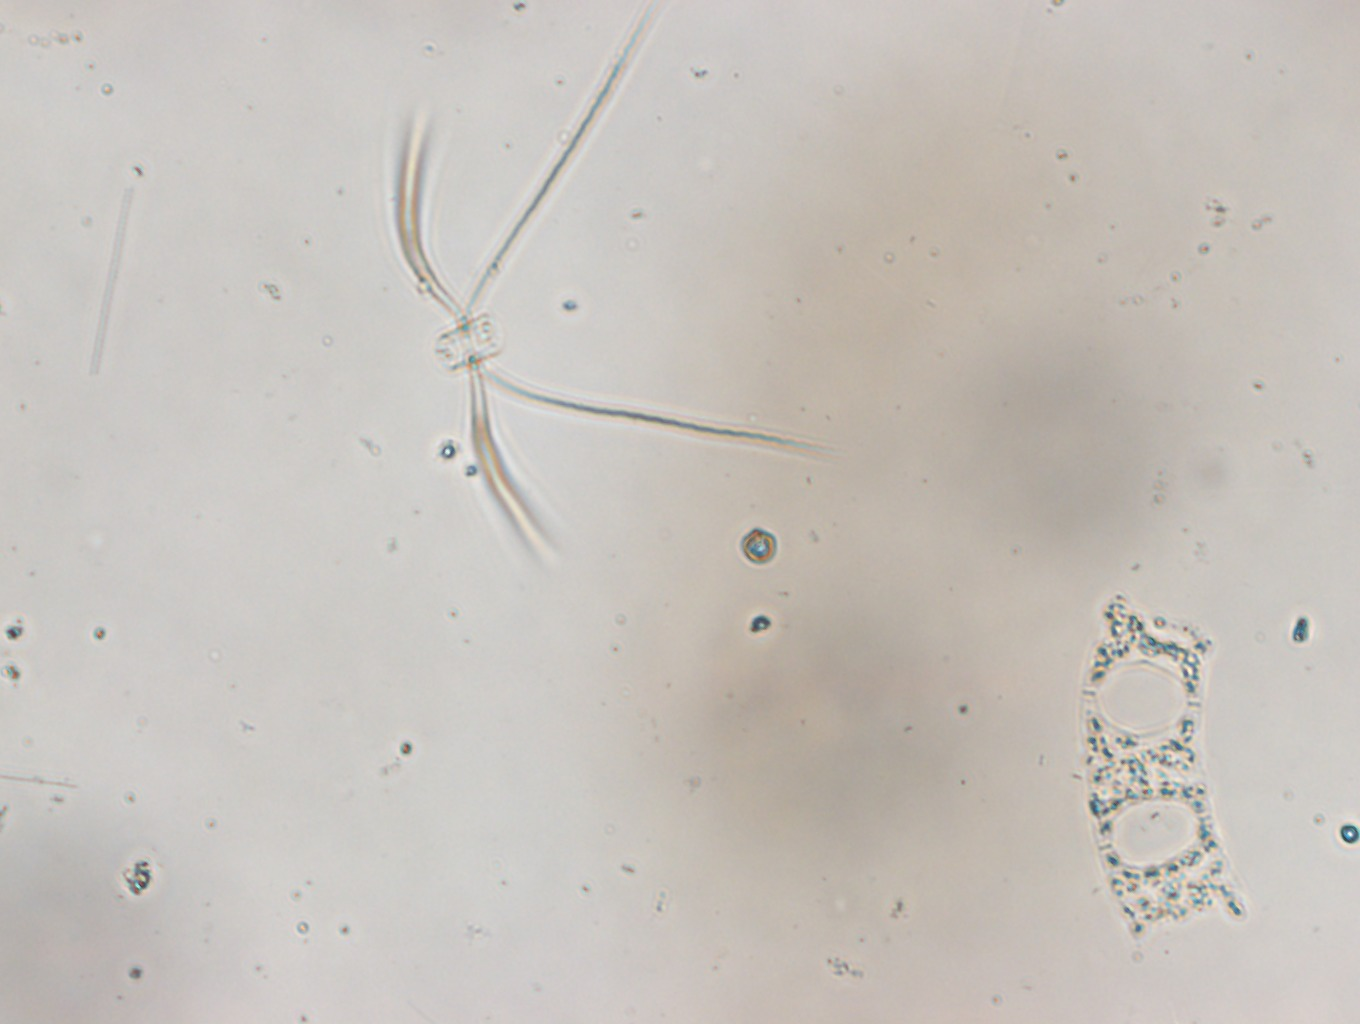chaetoceros: (389, 1, 834, 565)
eucampia: (1079, 591, 1246, 955)
